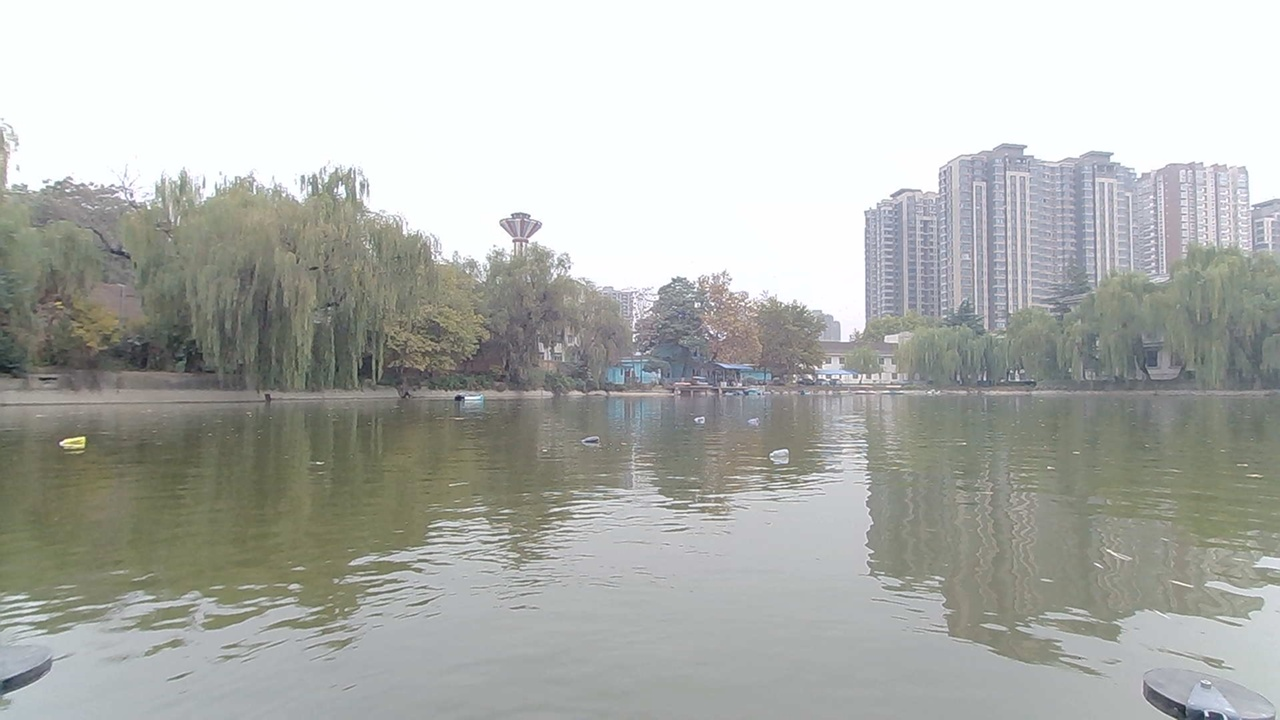bottle: (53, 427, 101, 459), (579, 430, 609, 452), (765, 444, 795, 465), (735, 412, 768, 429), (691, 407, 713, 426)
